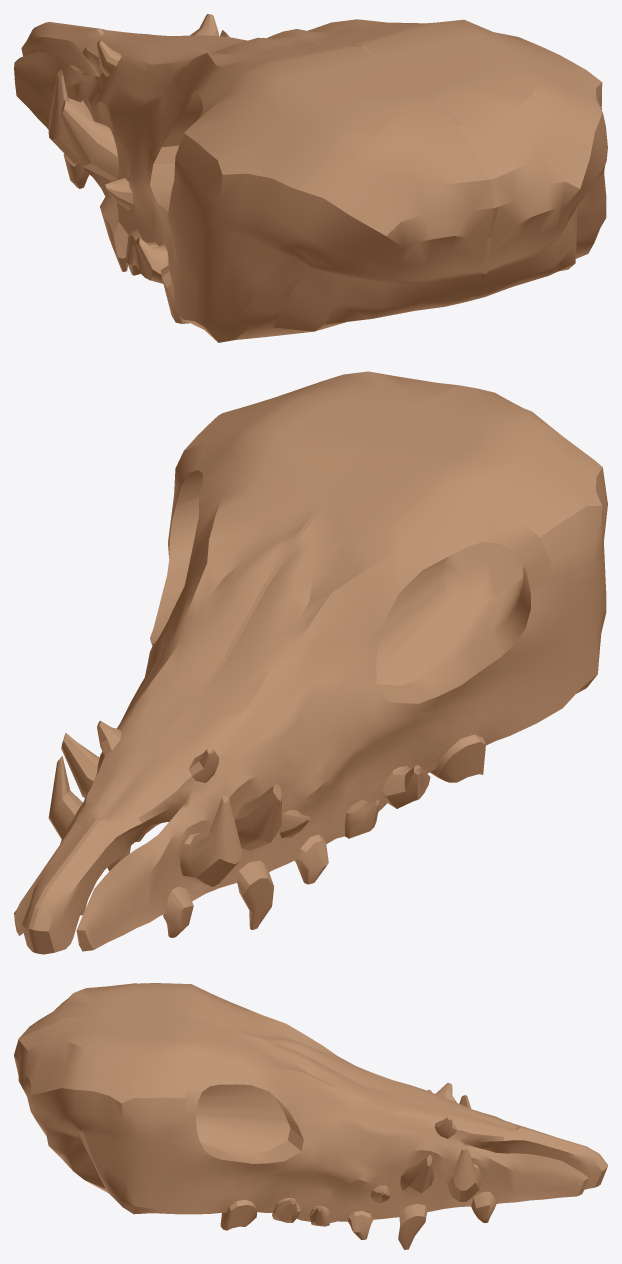
The model's file is final_skull_albus.fbx.
The picture shows the model from 3 angles, top to bottom: view 1: azimuth 30°, elevation 25°; view 2: azimuth 150°, elevation 25°; view 3: azimuth 270°, elevation 25°; orthographic projection. The views are drawn at different scales.
Parts seen in each view (by area): view 1: polySurface5; view 2: polySurface5; view 3: polySurface5.
Part boxes in pixels (x1,y1,x2,y2): polySurface5: [14, 14, 607, 342]; polySurface5: [14, 371, 607, 954]; polySurface5: [14, 983, 607, 1249].
Size of the model in its own units: 4.78 by 3.89 by 9.81.
